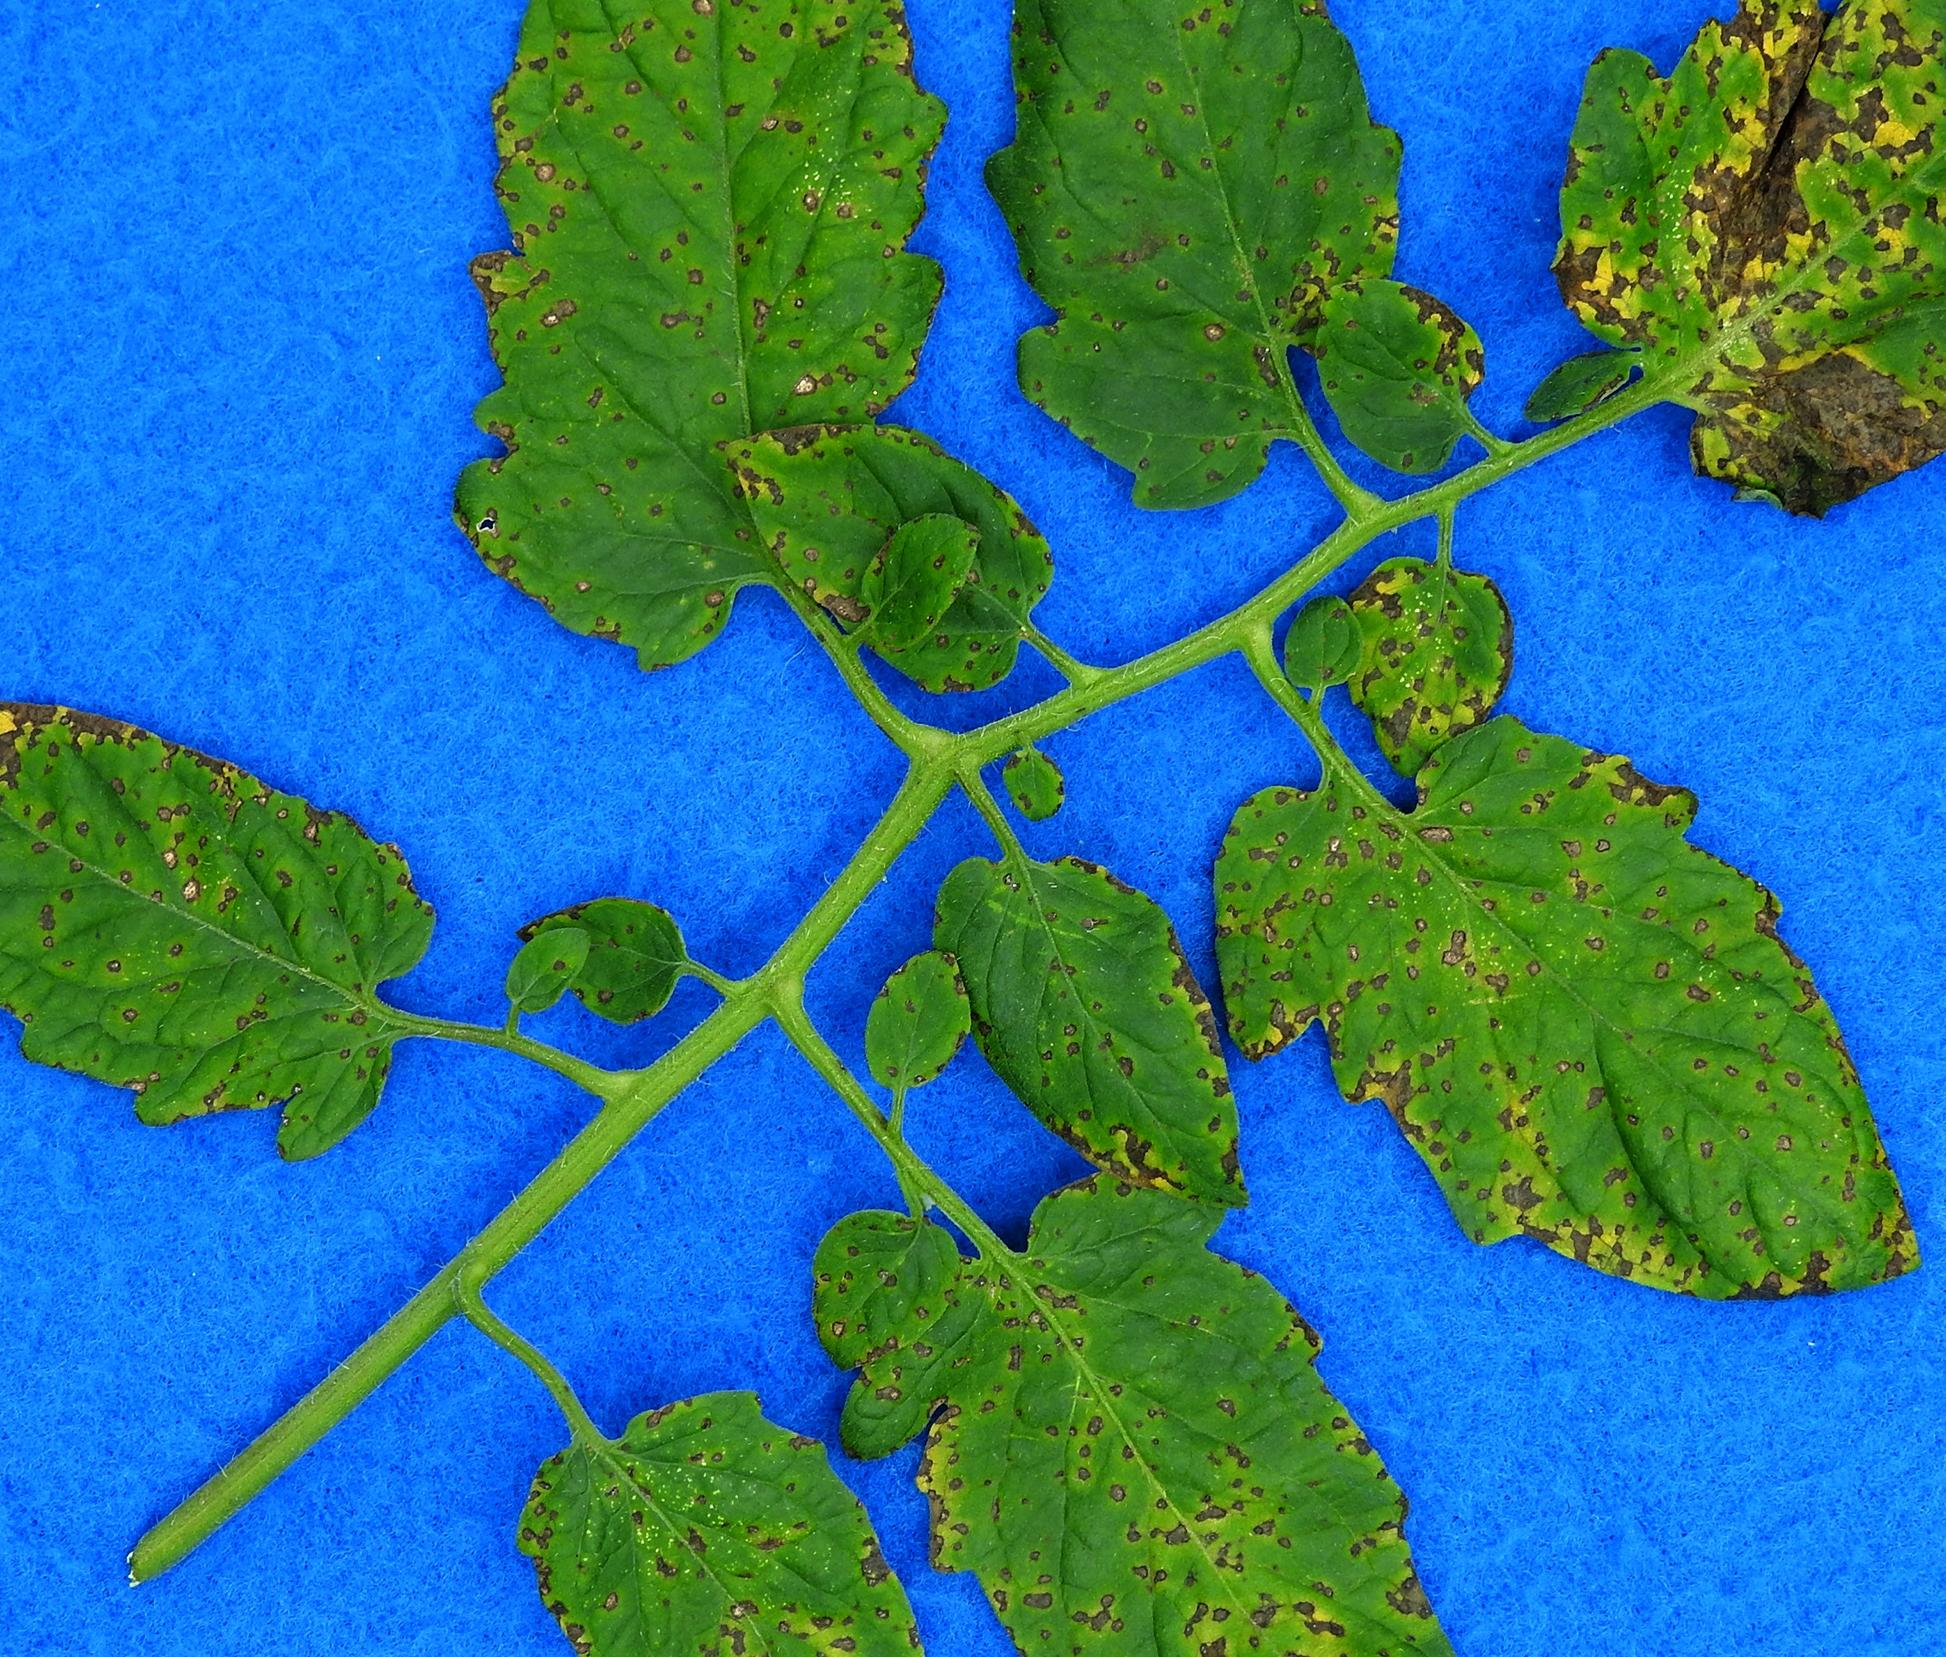Tomato Septoria leaf spot: (1206, 707, 1918, 1327), (447, 0, 980, 802), (851, 1129, 1501, 1657), (947, 0, 1556, 519), (0, 630, 449, 1198), (1527, 0, 1946, 564), (500, 1350, 988, 1657), (937, 833, 1262, 1210), (713, 406, 1108, 704)
